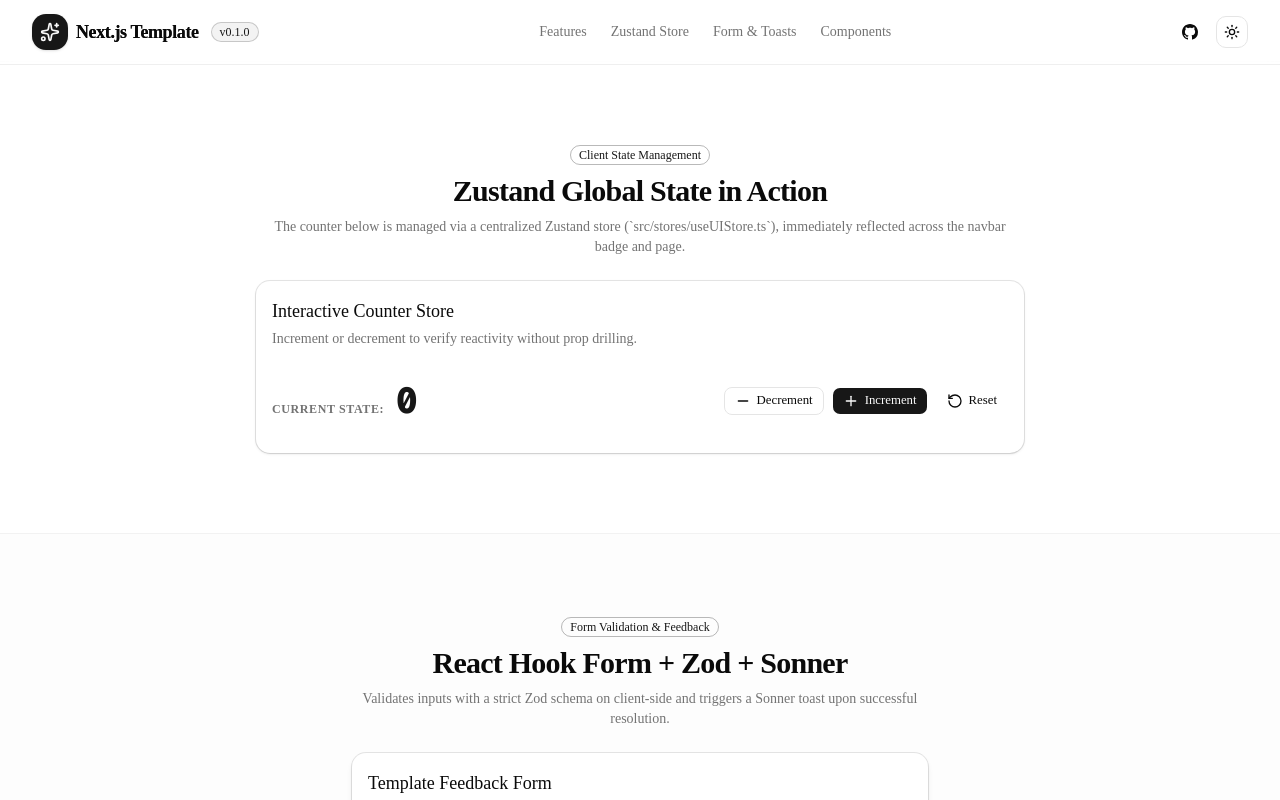
Test: Home Page › increments the Zustand counter when clicking increment button
(page scrolled)
expect the text with test id "zustand-counter-value" reads "0": met, box x1=396 y1=376 x2=418 y2=424
Click the button with aria-label "increment counter" at coordinates (880, 400), box x1=832 y1=386 x2=928 y2=414
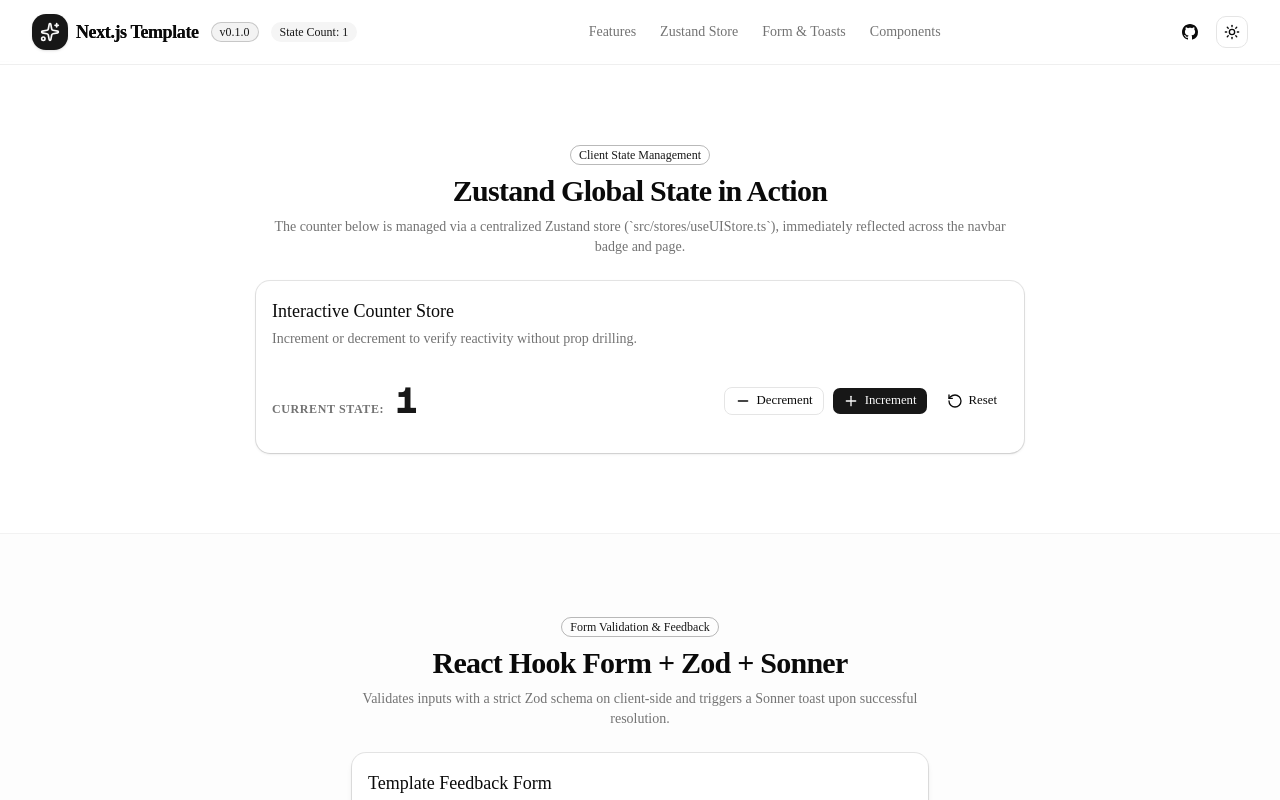
expect the text with test id "zustand-counter-value" reads "1": met, box x1=396 y1=376 x2=418 y2=424
